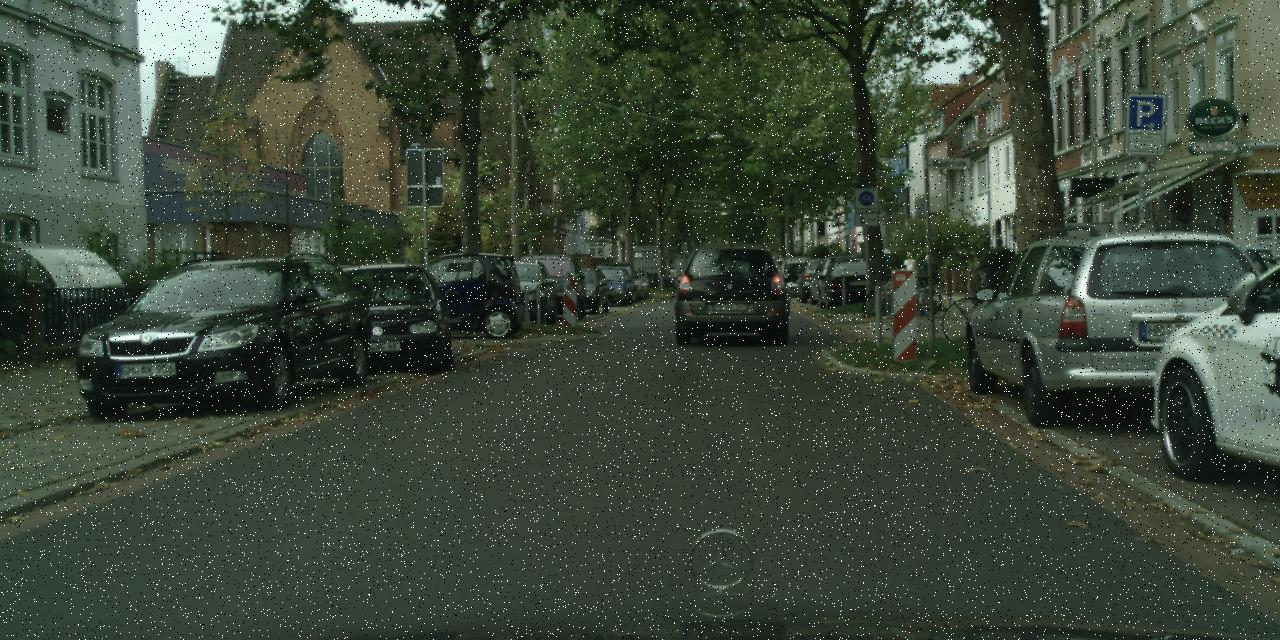ped: (921, 252, 937, 294), (902, 252, 916, 288)
